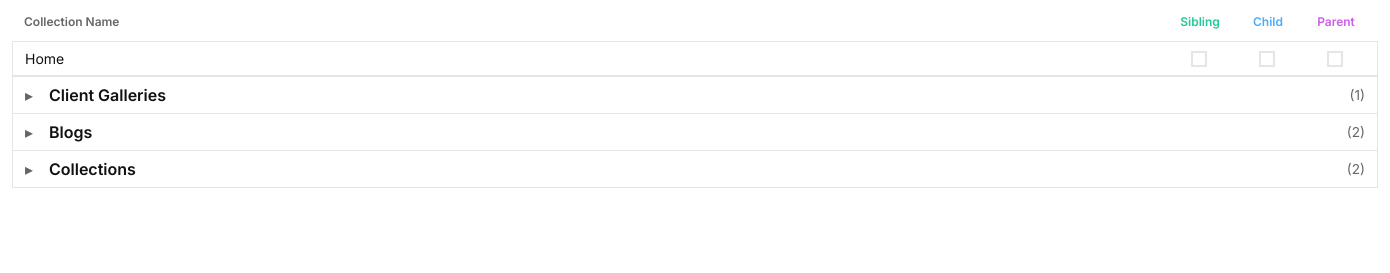
Test: three-column accordion mode › applies the expandedRow class to rows revealed under an open section
Step 1. Click the button "▸ Collections (2)" → (92, 169), box [13,150,1377,187]
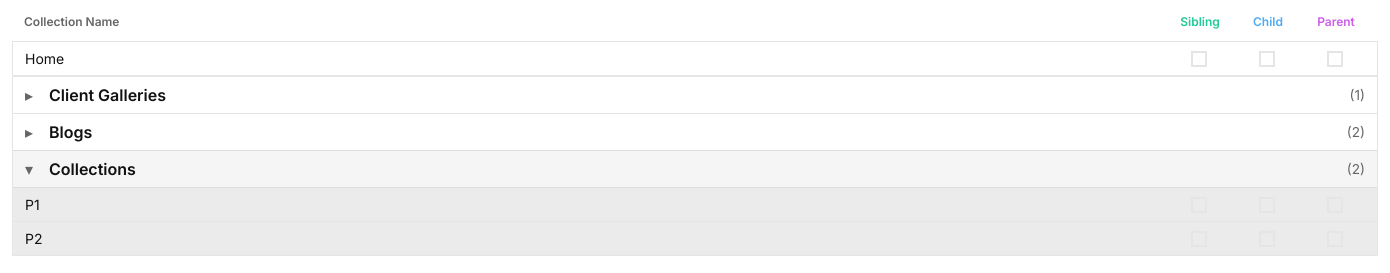
Now the element with class "expandedRow" is shown, box [13,188,1377,222]
